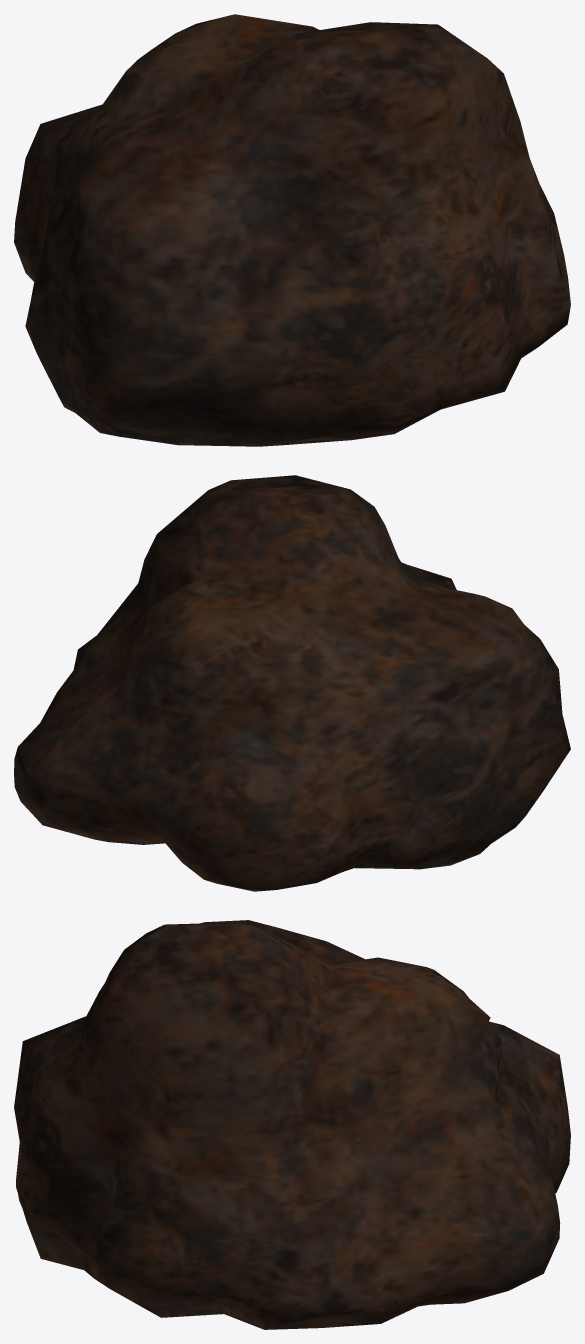
File: sb_obj_nature006_Stone05a.fbx
3 views of the same model, one above another, from view 1: azimuth 30°, elevation 25°; view 2: azimuth 150°, elevation 25°; view 3: azimuth 270°, elevation 25° (orthographic). The views are drawn at different scales.
Parts seen in each view (by area): view 1: sb_obj_nature006_Stone05a; view 2: sb_obj_nature006_Stone05a; view 3: sb_obj_nature006_Stone05a.
Part boxes in pixels (<box>): sb_obj_nature006_Stone05a: <box>14,14,570,446</box>; sb_obj_nature006_Stone05a: <box>14,475,570,891</box>; sb_obj_nature006_Stone05a: <box>14,920,570,1329</box>.
Size of the model in its own units: 1.03 by 0.6464 by 0.997.
1 material, 1 textured.
